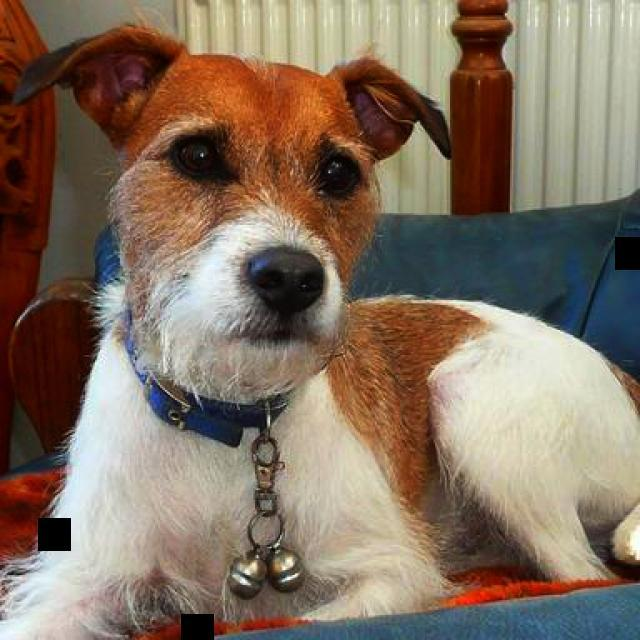adult_dog: (1, 27, 640, 640)
